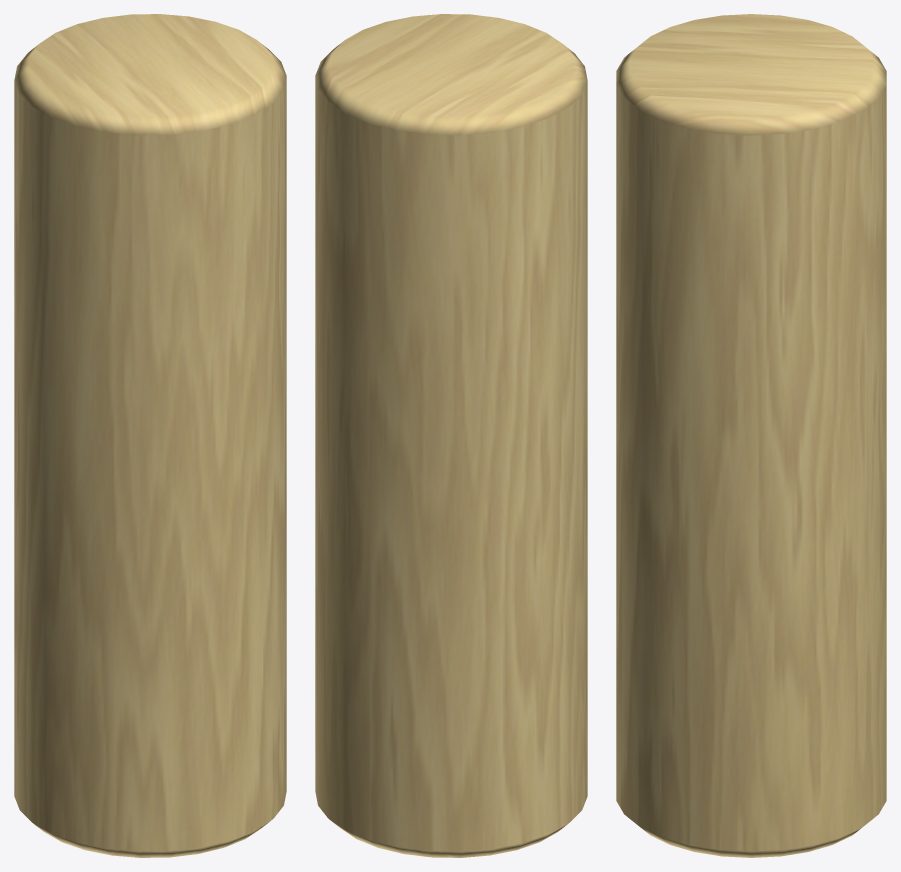
Rendered from BgMD_BuildingBlocks_05.fbx.
The picture shows the model from 3 angles, left to right: view 1: azimuth 30°, elevation 25°; view 2: azimuth 150°, elevation 25°; view 3: azimuth 270°, elevation 25°; orthographic projection.
Parts seen in each view (by area): view 1: BgMD_BuildingBlocks_05; view 2: BgMD_BuildingBlocks_05; view 3: BgMD_BuildingBlocks_05.
Part boxes in pixels (left/top/right/bottom): BgMD_BuildingBlocks_05: left=14, top=14, right=286, bottom=857; BgMD_BuildingBlocks_05: left=315, top=14, right=587, bottom=857; BgMD_BuildingBlocks_05: left=616, top=14, right=886, bottom=857.
Bounding box in the file's own units: 100 × 300 × 99.27.
